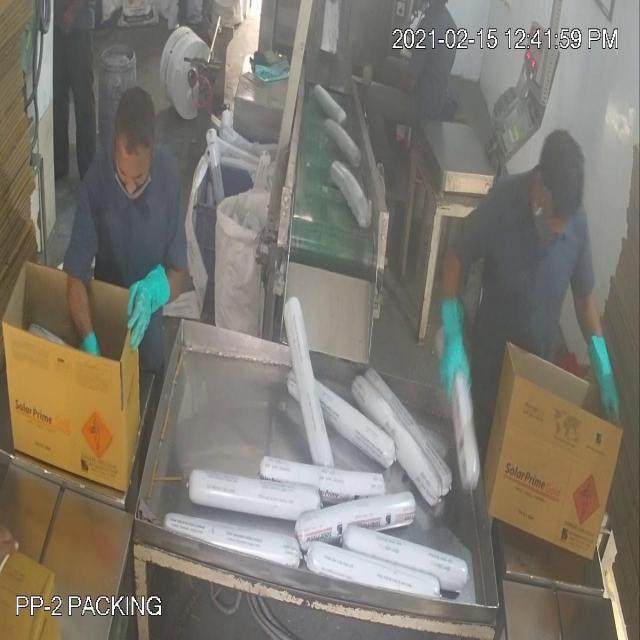Gloves: (41, 112, 600, 374)
